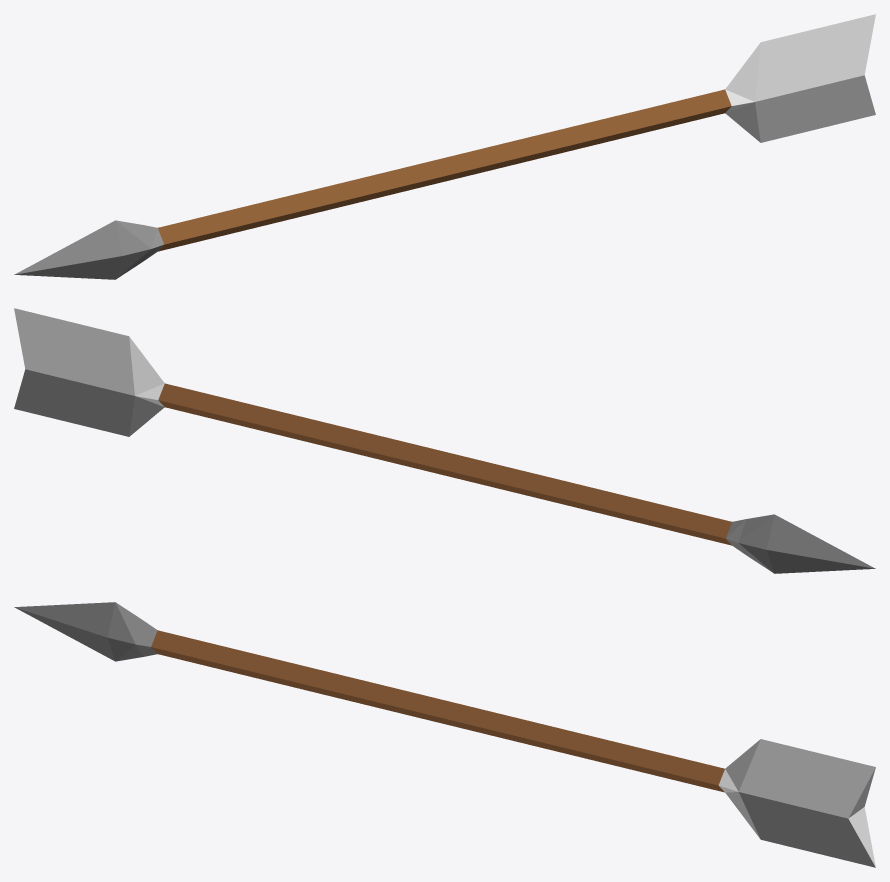
File: Asian_Prop_Arrow_01.FBX
3 views of the same model, one above another, from view 1: azimuth 30°, elevation 25°; view 2: azimuth 150°, elevation 25°; view 3: azimuth 330°, elevation 25° (orthographic).
Parts seen in each view (by area): view 1: Asian_Prop_Arrow_01; view 2: Asian_Prop_Arrow_01; view 3: Asian_Prop_Arrow_01.
Part boxes in pixels (x1,y1,x2,y2): Asian_Prop_Arrow_01: (14, 14, 875, 279); Asian_Prop_Arrow_01: (14, 308, 875, 573); Asian_Prop_Arrow_01: (14, 602, 875, 867).
Size of the model in its own units: 993 by 111 by 32.57.
